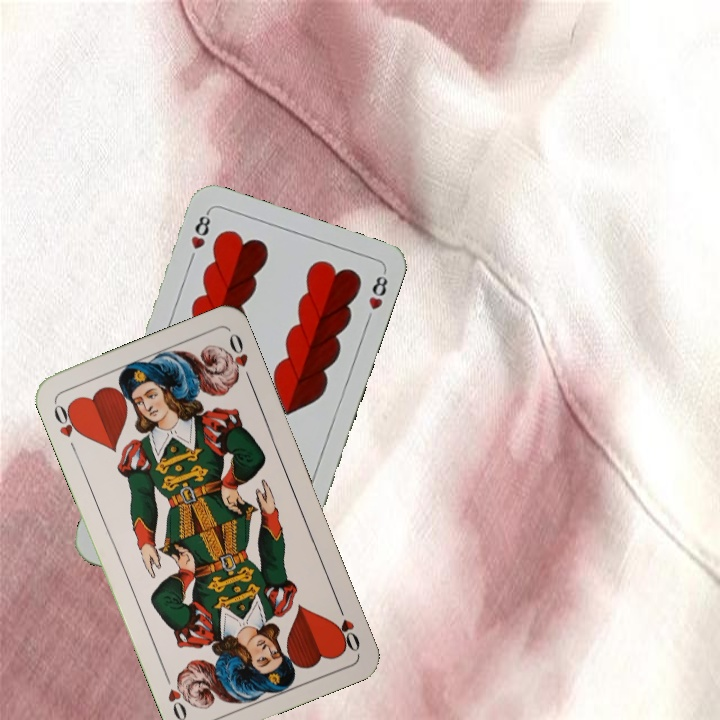H8: (186, 207, 213, 252)
HO: (49, 399, 85, 455), (332, 598, 363, 655)
